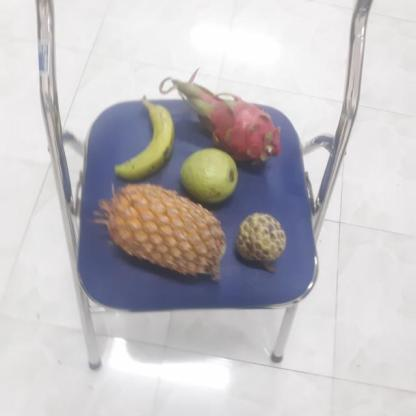annona: (231, 213, 285, 267)
banana: (112, 99, 175, 186)
guava: (178, 147, 239, 205)
pineapple: (102, 186, 224, 280)
pitaya: (179, 86, 278, 168)
